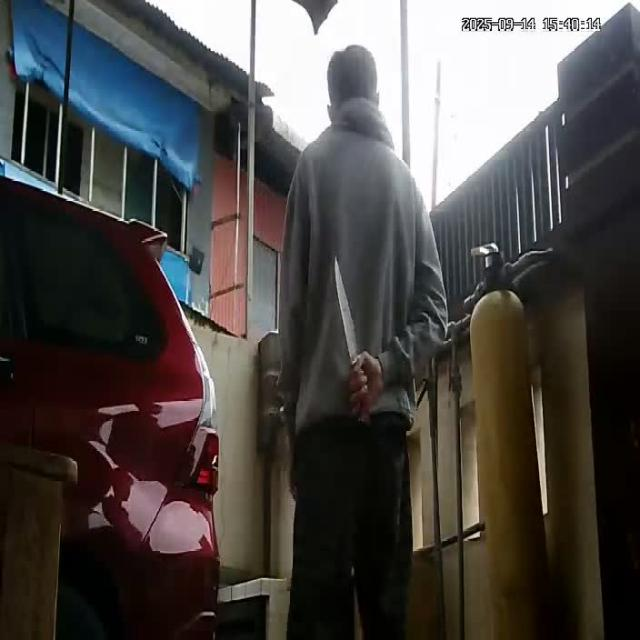senjata_tajam: (329, 255, 364, 366)
